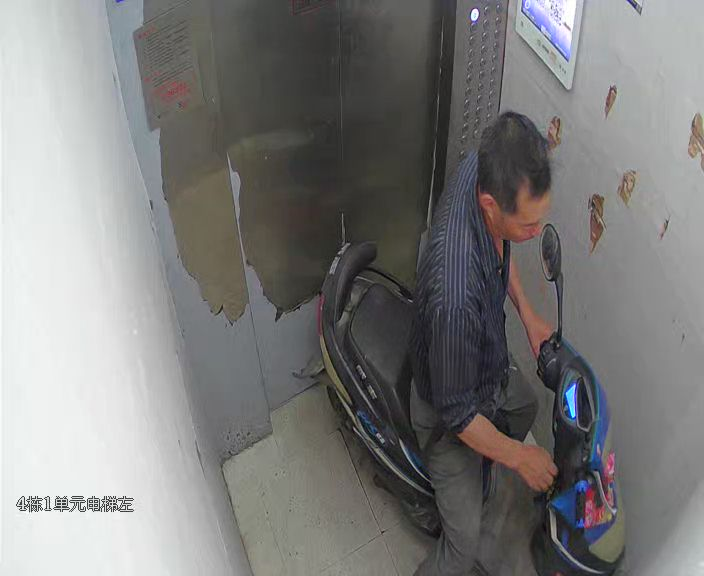Electric-bicycle: (293, 222, 623, 571)
